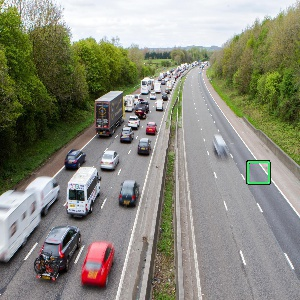square: (244, 158, 273, 186)
